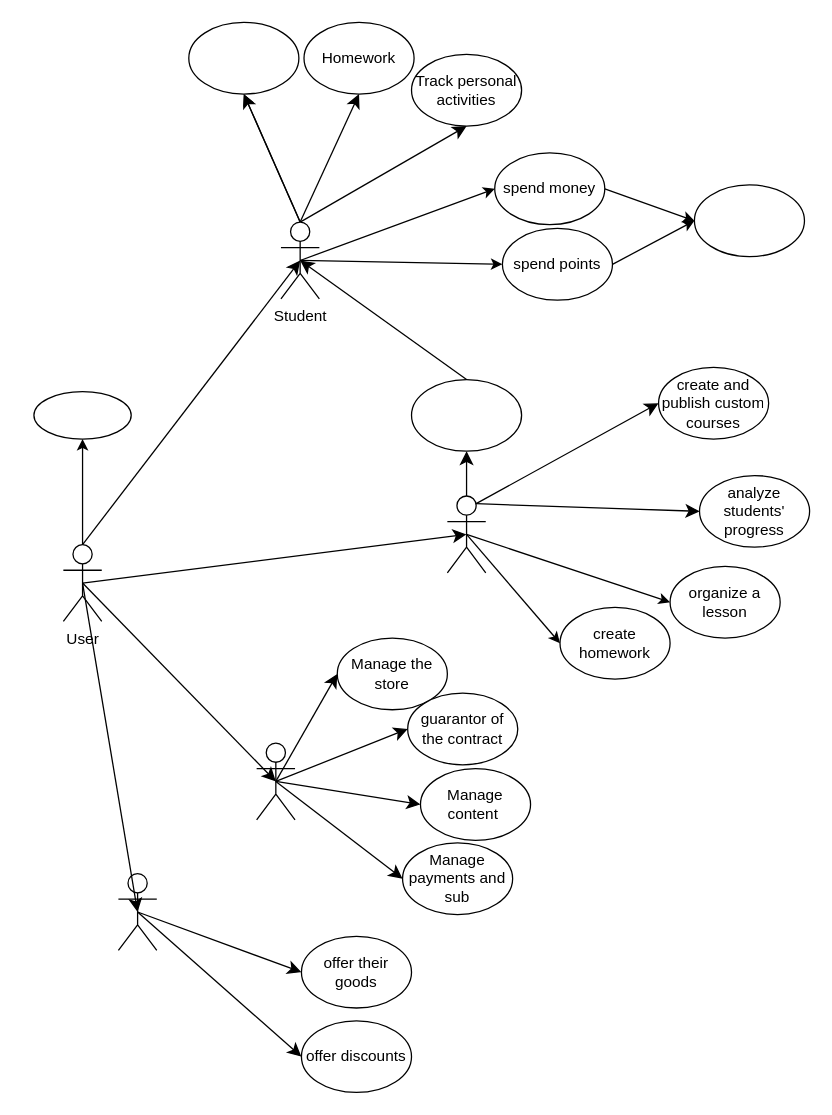
This 832x1115 diagram has some shape labels left out. Here are the shapes that lost their labels. From the top down, the box of each, then its label:
(188, 21, 299, 94): sign up for classes
(693, 184, 804, 257): Buy something from store
(33, 390, 131, 439): Login
(410, 378, 522, 451): give points
(446, 495, 486, 573): Teacher
(255, 742, 295, 820): Administration
(117, 872, 157, 950): Companies
